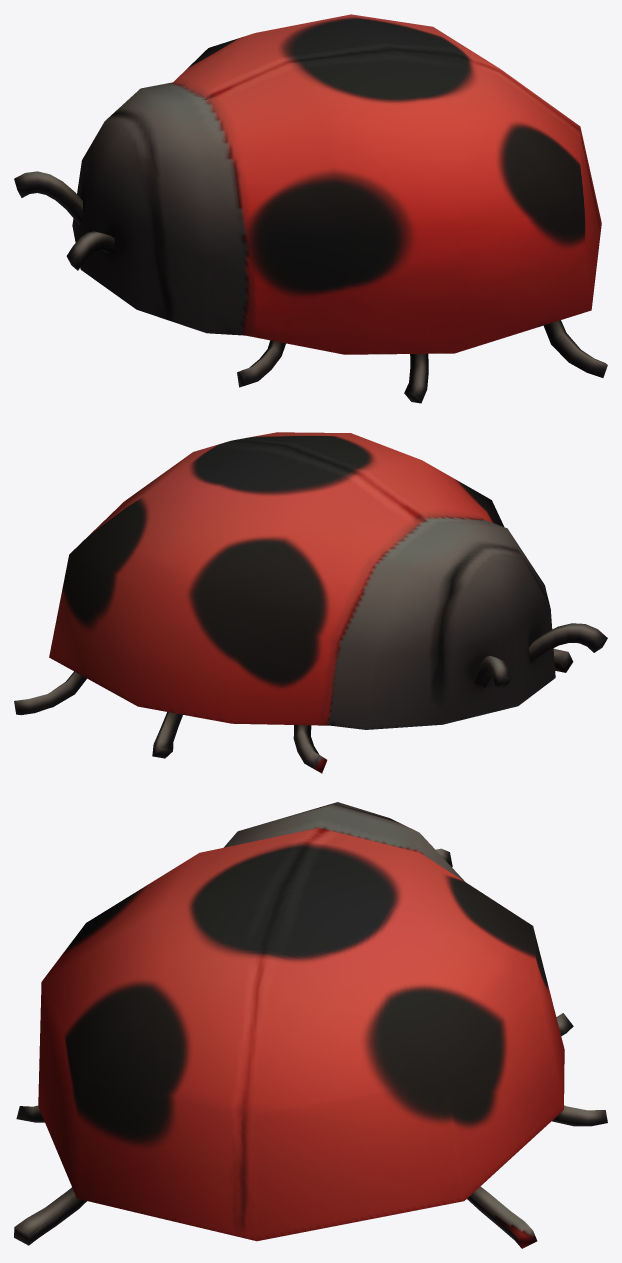
File: ladybug.FBX
The picture shows the model from 3 angles, top to bottom: view 1: azimuth 30°, elevation 25°; view 2: azimuth 150°, elevation 25°; view 3: azimuth 270°, elevation 25°; orthographic projection. The views are drawn at different scales.
Visible parts, largest first — view 1: ladybug001; view 2: ladybug001; view 3: ladybug001.
Part boxes in pixels (<box>): ladybug001: <box>14,14,607,403</box>; ladybug001: <box>14,432,607,773</box>; ladybug001: <box>14,802,607,1248</box>.
Bounding box in the file's own units: 1.25 × 0.6104 × 1.09.
Materials: 1 (1 with a texture image).
